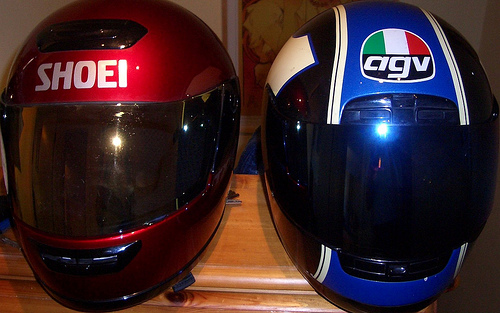helmet: (259, 8, 496, 305), (10, 9, 243, 299)
